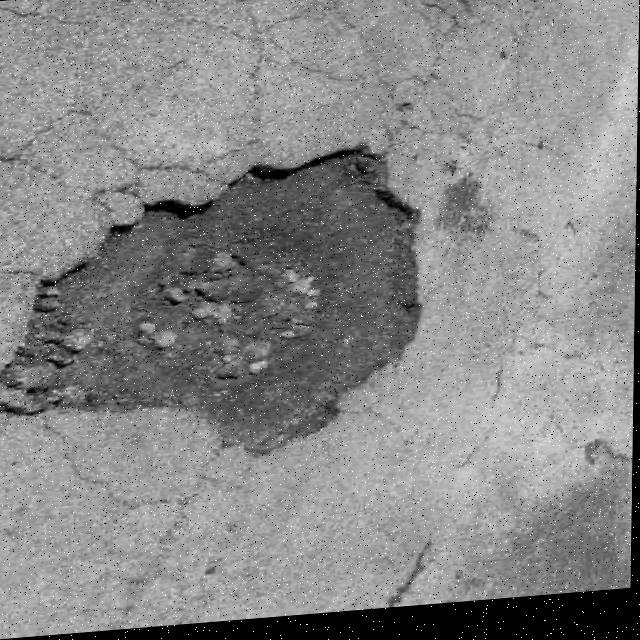Pothole: (0, 139, 446, 480)
